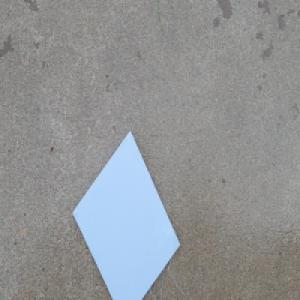PaintChip: (71, 131, 181, 300)
